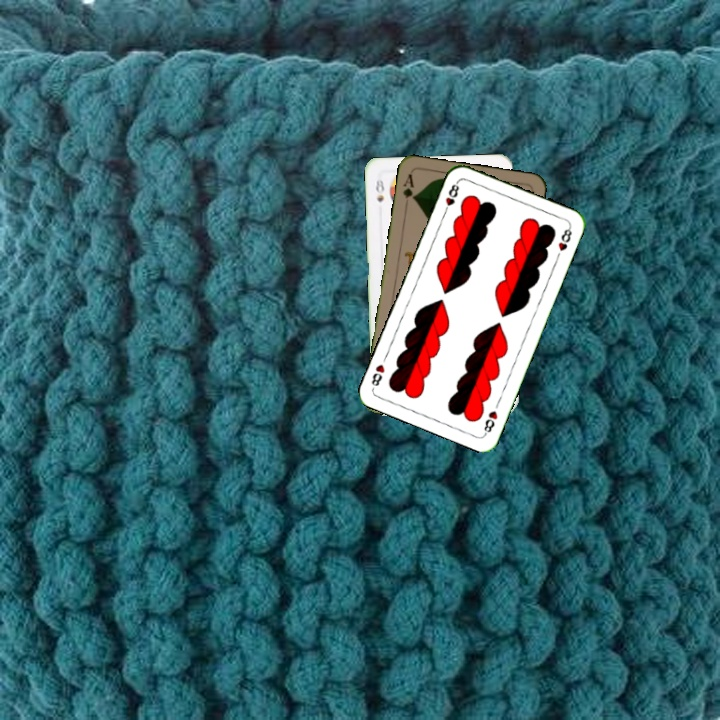GA: (399, 170, 418, 210)
H8: (440, 178, 462, 217), (480, 406, 500, 437)
S8: (372, 176, 387, 205)
